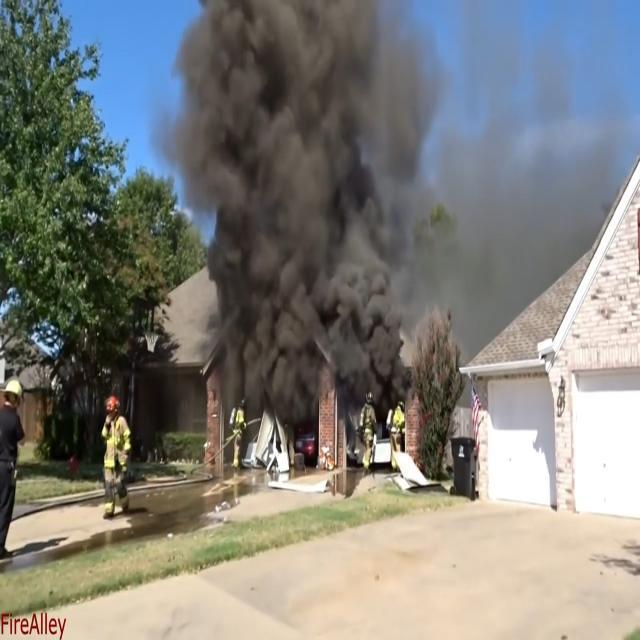Smoke: (179, 0, 403, 391)
